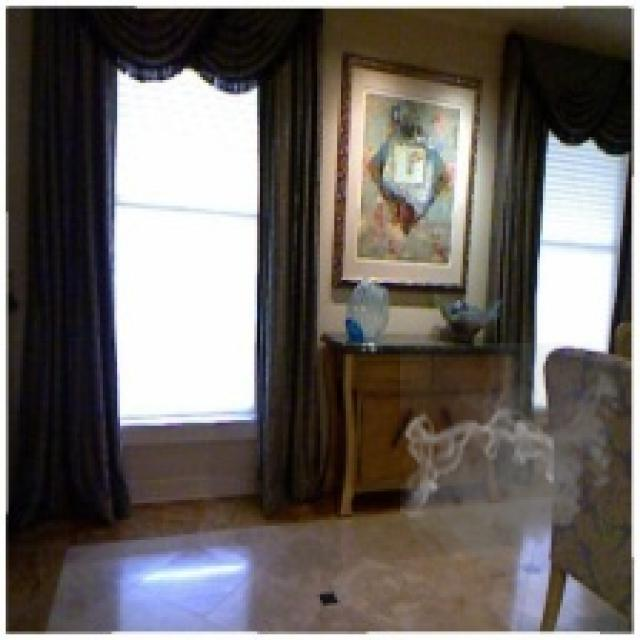smoke: (397, 343, 626, 580)
